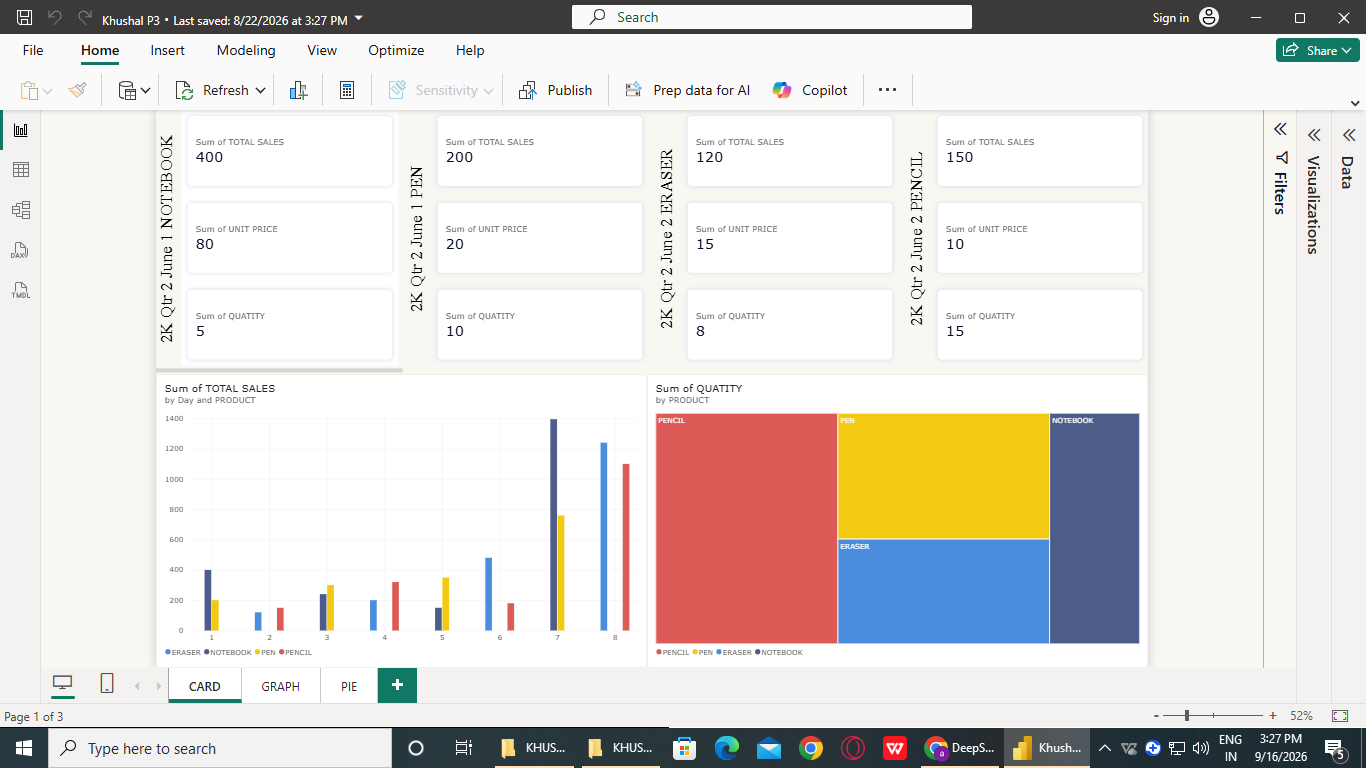

The dashboard page shown, as its layout file describes it:
{"tool":"powerbi","page":{"name":"CARD","canvas":[1920,1080],"ordinal":0},"visuals":[{"type":"lineClusteredColumnComboChart","fields":{"Category":["Sheet1.DATE.Variation.Date Hierarchy.Year","Sheet1.DATE.Variation.Date Hierarchy.Quarter","Sheet1.DATE.Variation.Date Hierarchy.Month","Sheet1.DATE.Variation.Date Hierarchy.Day"],"Series":["Sheet1.PRODUCT"],"Y":["Sum(Sheet1.TOTAL SALES)"]},"box":[0,511.5,949.9,569.4],"z":0},{"type":"cardVisual","fields":{"Rows":["Sheet1.DATE.Variation.Date Hierarchy.Year","Sheet1.DATE.Variation.Date Hierarchy.Quarter","Sheet1.DATE.Variation.Date Hierarchy.Month","Sheet1.DATE.Variation.Date Hierarchy.Day","Sheet1.PRODUCT"],"Data":["Sum(Sheet1.TOTAL SALES)","Sum(Sheet1.UNIT PRICE)","Sum(Sheet1.QUATITY)"]},"box":[0,0,1920,510],"z":1000},{"type":"treemap","fields":{"Group":["Sheet1.PRODUCT"],"Values":["Sum(Sheet1.QUATITY)"]},"box":[949.9,511.5,970.1,569.4],"z":2000}]}

Visuals, with their boxes on the page's 1920x1080 design canvas (x1, y1, x2, y2). These are canvas units, not pixel positions in the 1366x768 screenshot, which may show the page scaled, cropped or inside an application window:
lineClusteredColumnComboChart - Sheet1.DATE.Variation.Date Hierarchy.Year x Sheet1.DATE.Variation.Date Hierarchy.Quarter: [0, 512, 950, 1081]
cardVisual - Sheet1.DATE.Variation.Date Hierarchy.Year x Sheet1.DATE.Variation.Date Hierarchy.Quarter: [0, 0, 1920, 510]
treemap - Sheet1.PRODUCT x Sum(Sheet1.QUATITY): [950, 512, 1920, 1081]
